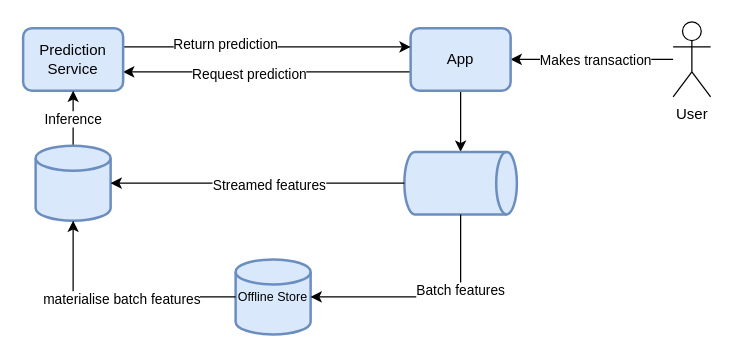
The diagram is 733 pixels wide and 358 high, and some of its shapes have lost their labels. Here are the shapes that lost their labels. From the top down, the centre of each, then its label:
point 72,182: Online Store
point 460,182: Real-time Transport
